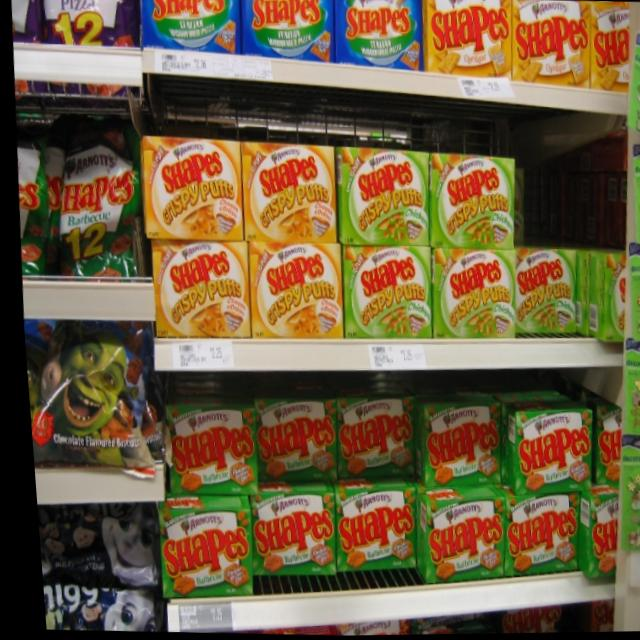q214: (18, 313, 161, 492)
